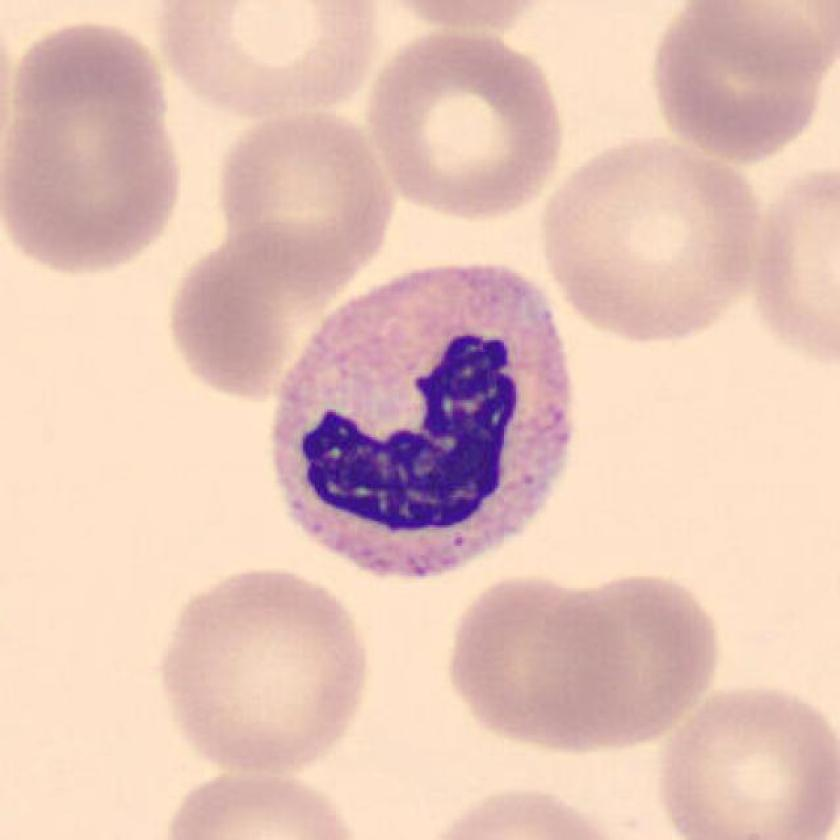neutrophil: (274, 262, 577, 580)
